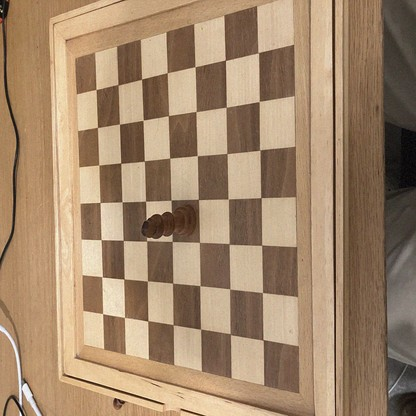king_black: (142, 207, 197, 240)
